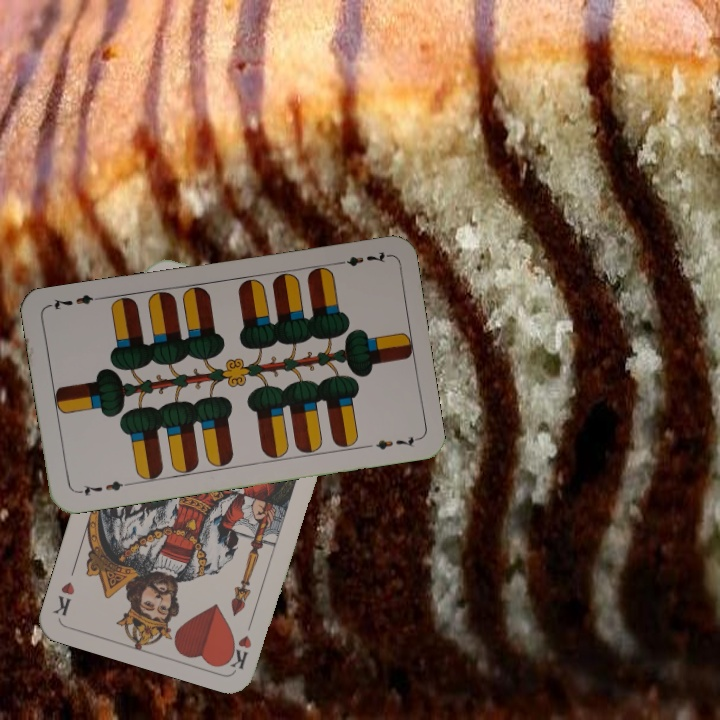E7: (74, 476, 133, 499), (332, 247, 391, 269)
HK: (226, 612, 257, 671)
